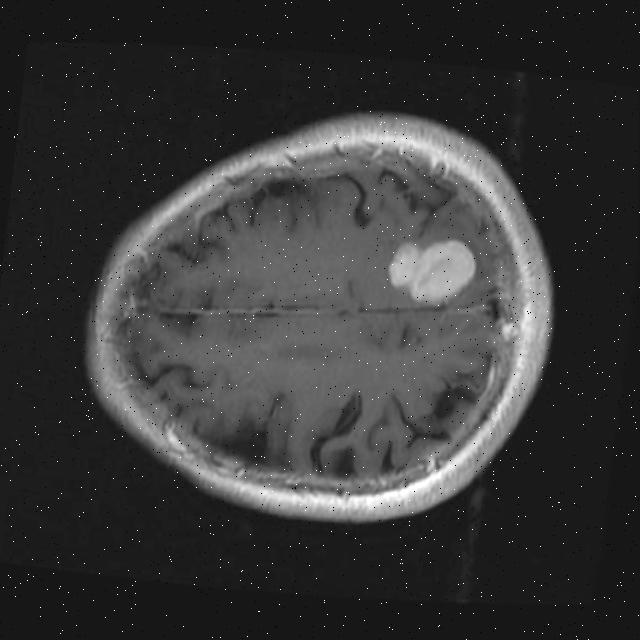Meningioma: (383, 229, 479, 310)
